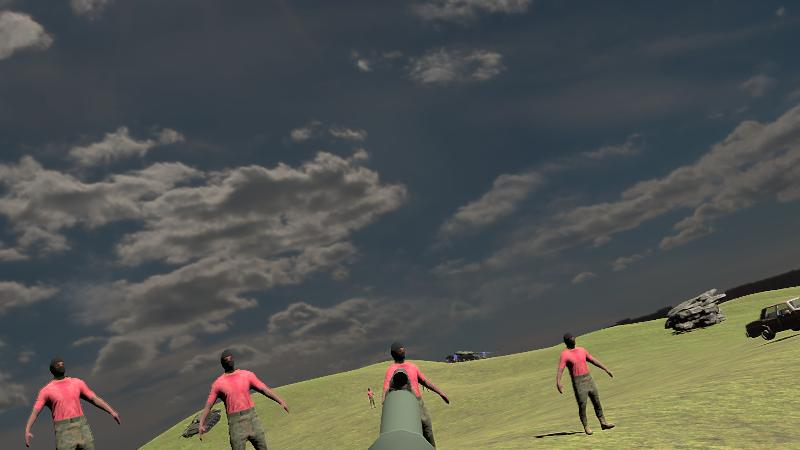Human: (200, 346, 288, 449), (25, 356, 120, 449), (556, 333, 614, 436)
car: (745, 300, 800, 340)
